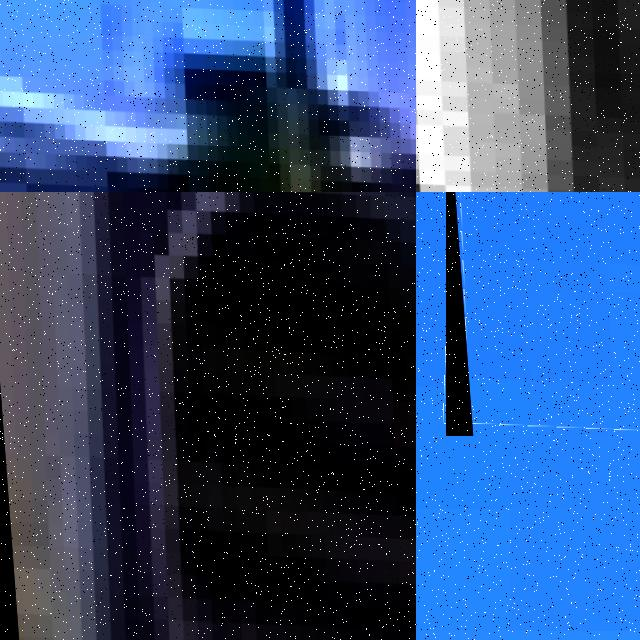drone: (0, 192, 416, 640), (0, 0, 416, 192), (446, 192, 640, 436), (416, 0, 640, 192)
